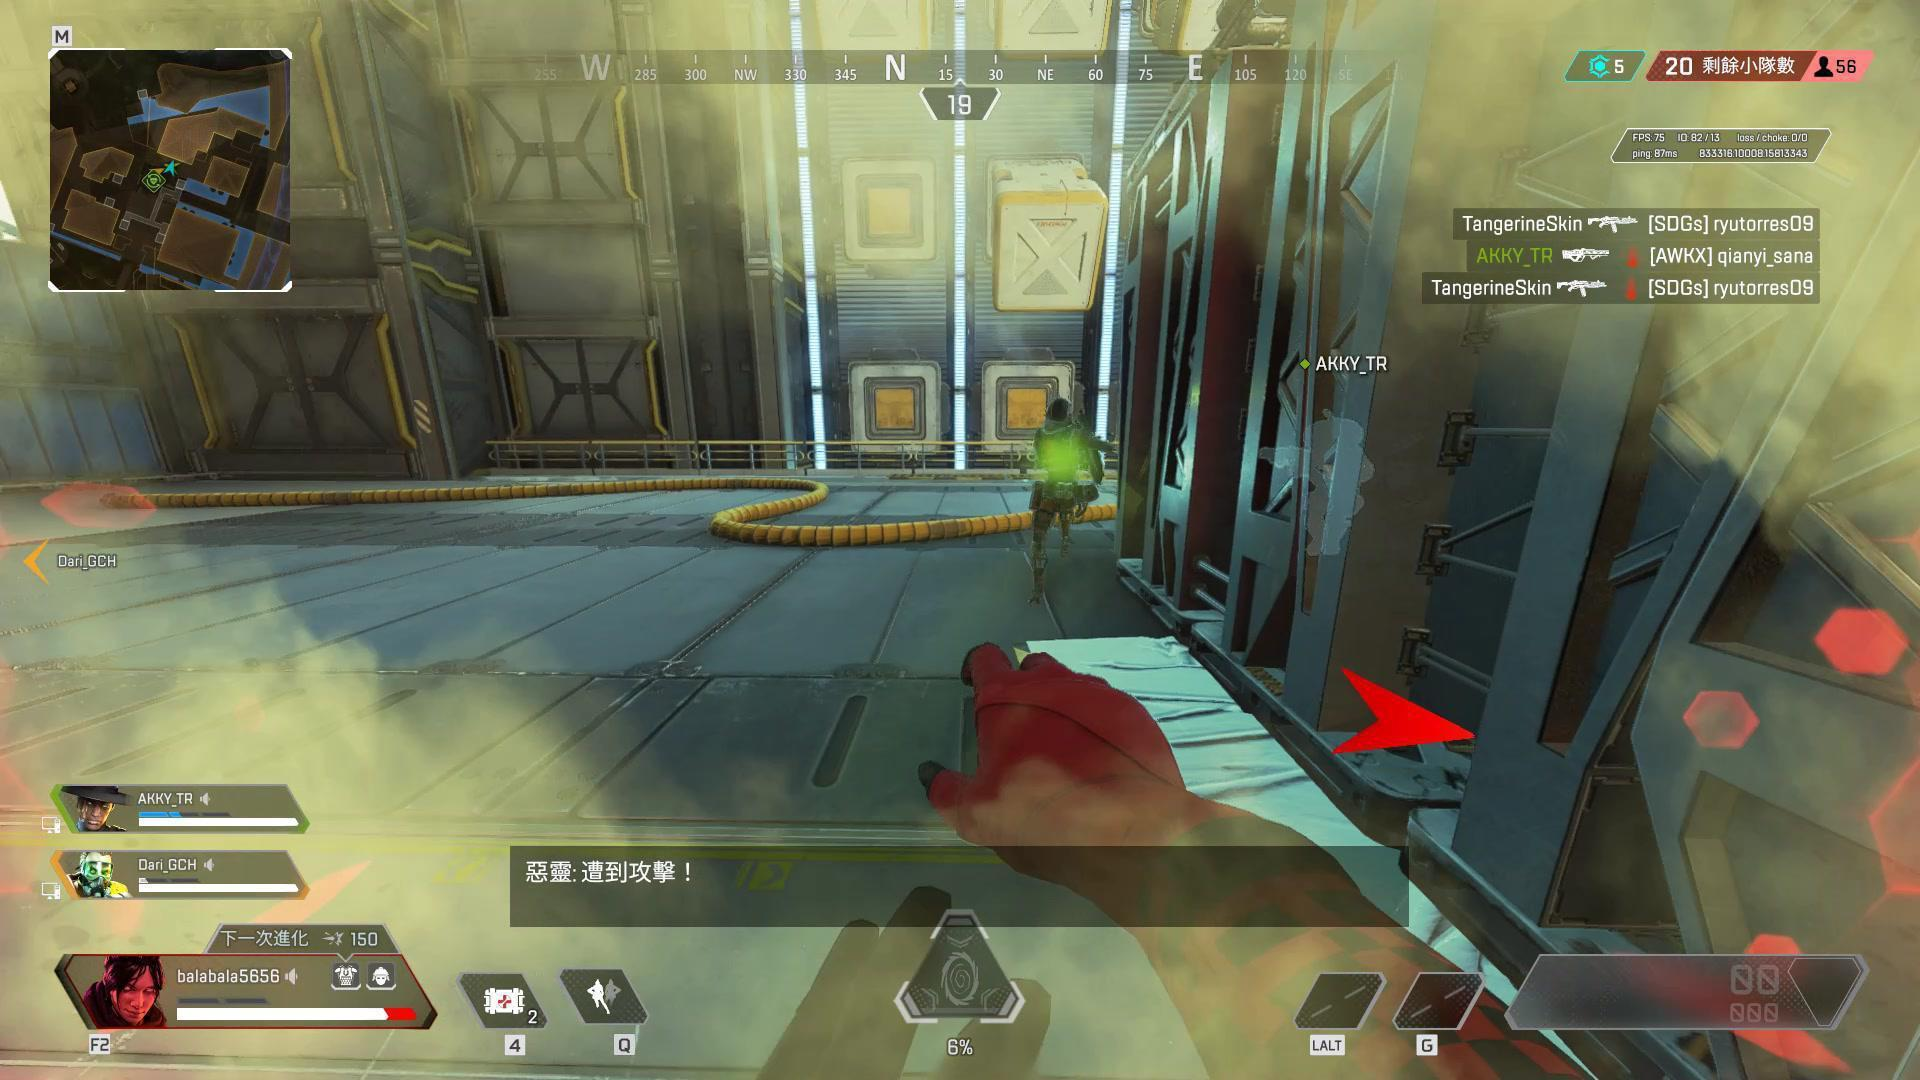avatar: (1022, 394, 1102, 610)
object: (1033, 428, 1093, 495)
